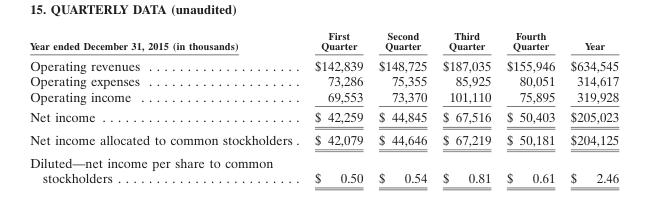table: (29, 28, 618, 185)
table column: (29, 28, 302, 185), (302, 28, 370, 185), (370, 28, 434, 185), (434, 28, 498, 185), (498, 28, 562, 185), (562, 28, 618, 185)
table column header: (29, 28, 618, 54)
table row: (29, 150, 618, 185), (29, 28, 618, 54), (29, 106, 618, 128), (29, 128, 618, 150), (29, 54, 618, 72), (29, 88, 618, 106), (29, 72, 618, 88)
